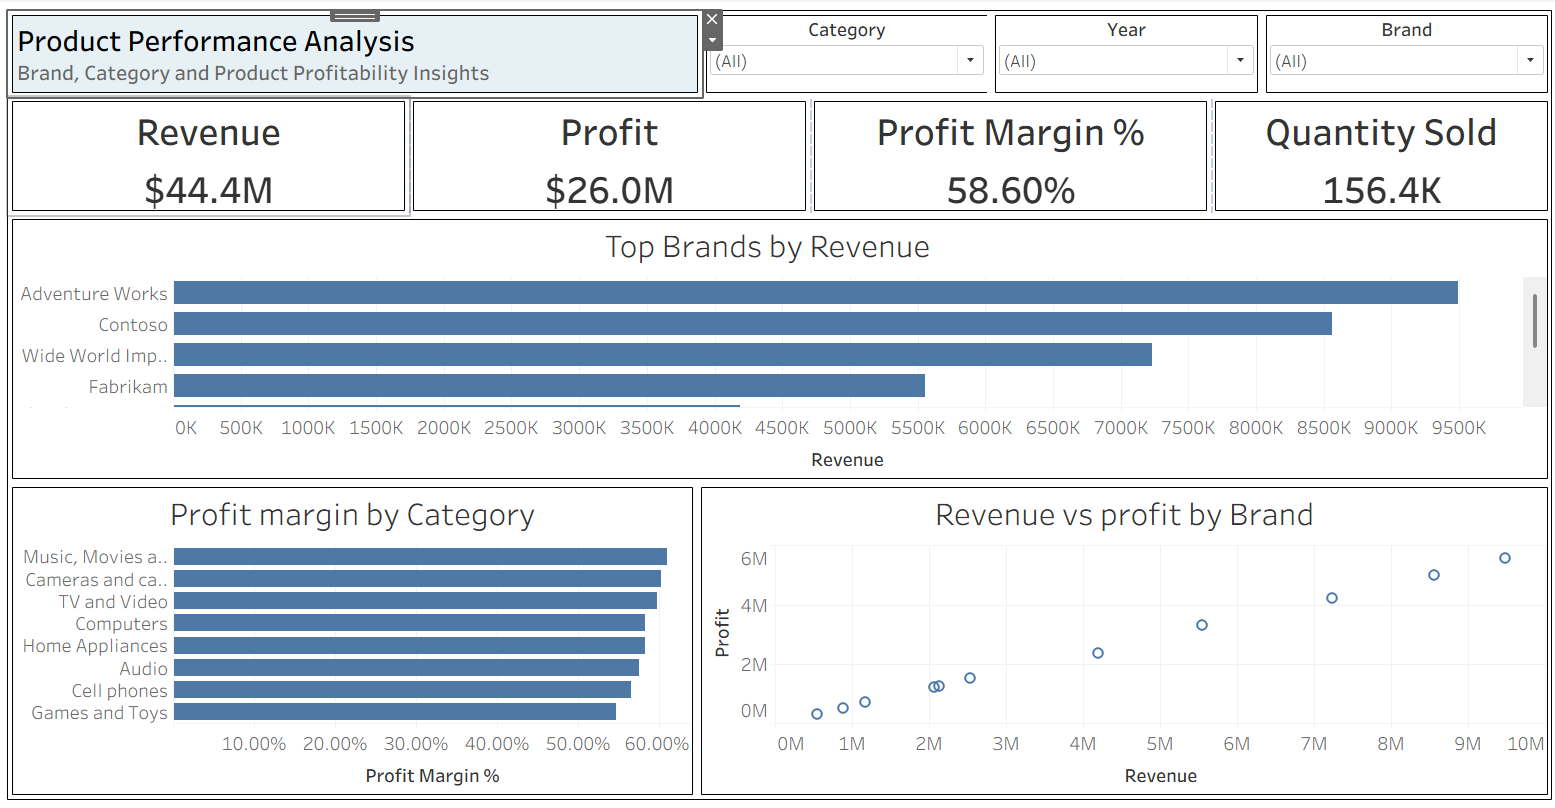

This screenshot's page, from the dashboard's own definition file:
{"tool":"tableau","page":{"name":"Dashbaord2","canvas":[1000,1000],"units":"permille","ordinal":1},"visuals":[{"type":"text","box":[5.8,11.2,444,106.4]},{"type":"filter","title":"Profit margin by Category","param":"[federated.02thb3i1gr9s941ego1r00bs9llb].[none:Category:nk]","box":[449.8,11.2,185.5,106.4]},{"type":"filter","title":"Revenue vs profit by Brand","param":"[federated.02thb3i1gr9s941ego1r00bs9llb].[yr:Order Date:ok]","box":[635.3,11.2,173.5,106.4]},{"type":"filter","title":"Brand by Revenue","param":"[federated.02thb3i1gr9s941ego1r00bs9llb].[none:Brand:nk]","box":[808.8,11.2,185.5,106.4]},{"type":"worksheet","title":"KPI- Revenue","mark":"Automatic","box":[5.8,117.6,256.7,146.4]},{"type":"worksheet","title":"KPI - Profit","mark":"Automatic","box":[262.5,117.6,256.7,146.4]},{"type":"worksheet","title":"KPI - Profit Margin","mark":"Automatic","box":[519.2,117.6,256.7,146.4]},{"type":"worksheet","title":"KPI -Quantity sold","mark":"Automatic","box":[775.9,117.6,218.3,146.4]},{"type":"worksheet","title":"Brand by Revenue","mark":"Automatic","rows":["Brand"],"cols":["Calculation_1236136361050112"],"box":[5.8,264,988.5,332.5]},{"type":"worksheet","title":"Profit margin by Category","mark":"Automatic","rows":["Category"],"cols":["Calculation_1236136364740613"],"box":[5.8,596.5,441.1,392.3]},{"type":"worksheet","title":"Revenue vs profit by Brand","mark":"Automatic","rows":["Calculation_1236136362950658"],"cols":["Calculation_1236136361050112"],"box":[446.9,596.5,547.4,392.3]}]}

Visuals, with their boxes on the dashboard's canvas, which has no fixed pixel size, in thousandths of its width and height (x1, y1, x2, y2). These are canvas units, not pixel positions in the 1555x808 screenshot, which may show the page scaled, cropped or inside an application window:
text: select_region(6, 11, 450, 118)
"Profit margin by Category" filter: select_region(450, 11, 635, 118)
"Revenue vs profit by Brand" filter: select_region(635, 11, 809, 118)
"Brand by Revenue" filter: select_region(809, 11, 994, 118)
"KPI- Revenue" worksheet: select_region(6, 118, 262, 264)
"KPI - Profit" worksheet: select_region(262, 118, 519, 264)
"KPI - Profit Margin" worksheet: select_region(519, 118, 776, 264)
"KPI -Quantity sold" worksheet: select_region(776, 118, 994, 264)
"Brand by Revenue" worksheet: select_region(6, 264, 994, 596)
"Profit margin by Category" worksheet: select_region(6, 596, 447, 989)
"Revenue vs profit by Brand" worksheet: select_region(447, 596, 994, 989)
